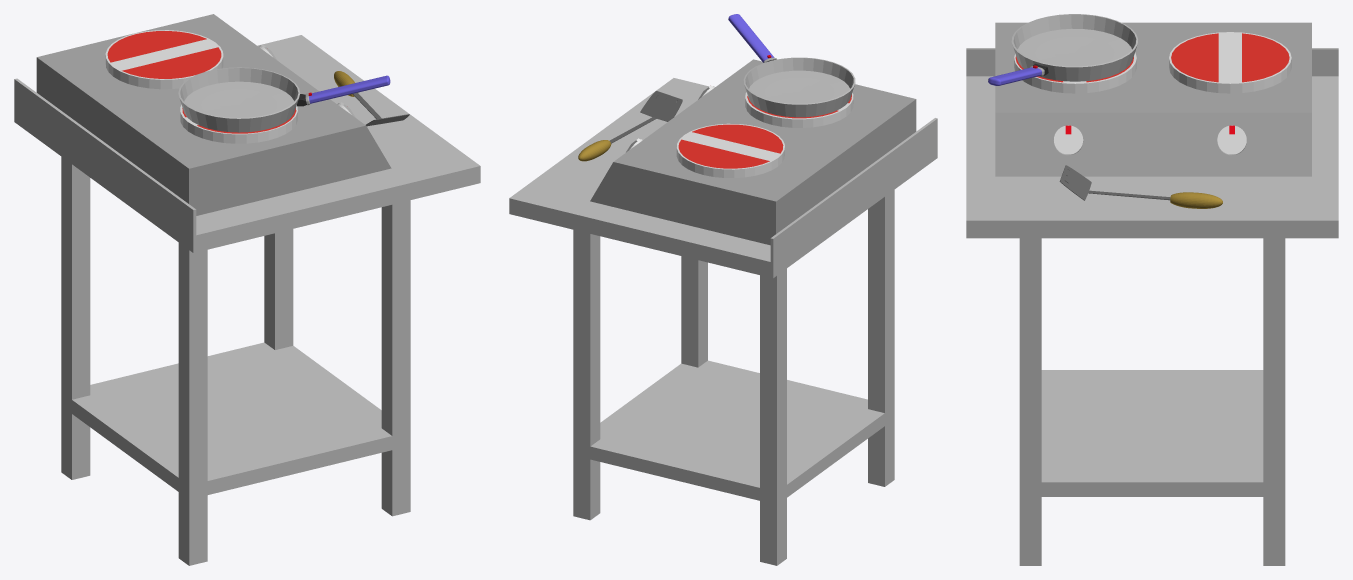
File: StoveNew.fbx
3 renders of one model, left to right at view 1: azimuth 30°, elevation 25°; view 2: azimuth 150°, elevation 25°; view 3: azimuth 270°, elevation 25°, orthographic. The views are drawn at different scales.
Visible parts, largest first — view 1: Table, Stove, FryingPan, SurfaceFire, Surface, Surface.001, MainPen; view 2: Table, Stove, FryingPan, SurfaceFire, Surface, Surface.001, Tip, MainPen; view 3: Table, Stove, FryingPan, SurfaceFire, Surface, Surface.001, Wood, Pen, Pen.001, Tip, MainPen.
Part boxes in pixels (left/top/right/bottom): Table: left=14, top=35, right=480, bottom=565; Stove: left=36, top=14, right=391, bottom=215; FryingPan: left=178, top=67, right=300, bottom=132; SurfaceFire: left=107, top=31, right=221, bottom=78; Surface: left=105, top=30, right=223, bottom=89; Surface.001: left=180, top=104, right=297, bottom=143; MainPen: left=308, top=75, right=390, bottom=103; Table: left=509, top=78, right=937, bottom=565; Stove: left=590, top=59, right=916, bottom=245; FryingPan: left=743, top=57, right=855, bottom=117; SurfaceFire: left=678, top=124, right=783, bottom=168; Surface: left=676, top=123, right=784, bottom=178; Surface.001: left=745, top=92, right=853, bottom=127; Tip: left=640, top=91, right=682, bottom=121; MainPen: left=728, top=14, right=774, bottom=62; Table: left=966, top=48, right=1338, bottom=565; Stove: left=995, top=22, right=1311, bottom=176; FryingPan: left=1011, top=14, right=1137, bottom=81; SurfaceFire: left=1171, top=33, right=1289, bottom=82; Surface: left=1169, top=32, right=1291, bottom=93; Surface.001: left=1014, top=52, right=1136, bottom=93; Wood: left=1170, top=192, right=1222, bottom=208; Pen: left=1053, top=125, right=1083, bottom=155; Pen.001: left=1217, top=125, right=1246, bottom=155; Tip: left=1059, top=165, right=1091, bottom=200; MainPen: left=988, top=67, right=1041, bottom=85.
Size of the model in its own units: 1.11 by 1.2 by 1.67.
